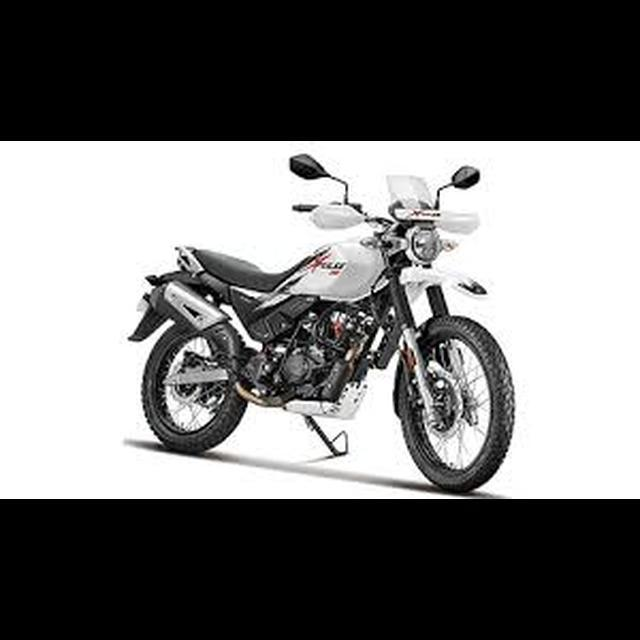motorcycle: (119, 147, 519, 498)
